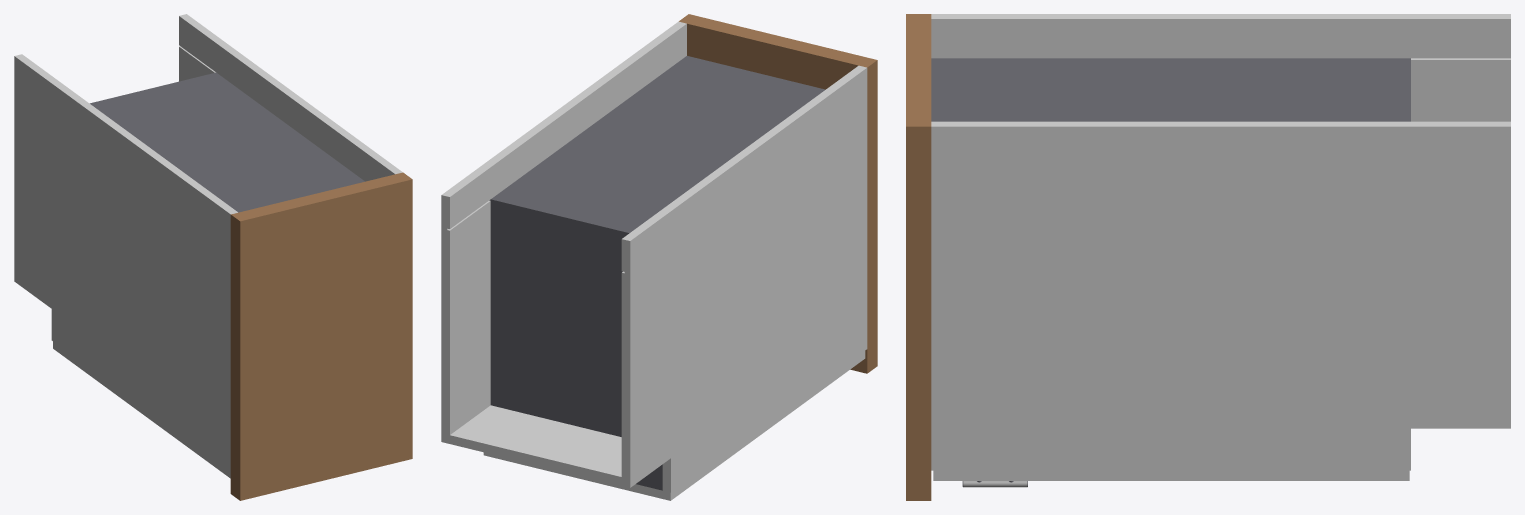
Rendered from Kitchen Cabinets_40CM Highline Cabinet (1).obj.
3 views of the same model, side by side, from view 1: azimuth 30°, elevation 25°; view 2: azimuth 150°, elevation 25°; view 3: azimuth 270°, elevation 25° (orthographic). The views are drawn at different scales.
Parts seen in each view (by area): view 1: RH_Panel_(4), Worktop_(4), BackPanel_(4), LH_Panel_(4), Door_(4); view 2: RH_Panel_(4), Bottom_Shelf_(4), BackPanel_(4), LH_Panel_(4), Worktop_(4), Plinth_(4), Door_(4); view 3: LH_Panel_(4), RH_Panel_(4), BackPanel_(4), Worktop_(4), Door_(4), Plinth_(4).
Boxes of the visible parts, x1,y1,x2,y2 form: RH_Panel_(4): (14, 54, 237, 470); Worktop_(4): (230, 172, 412, 500); BackPanel_(4): (90, 72, 364, 212); LH_Panel_(4): (179, 14, 402, 181); Door_(4): (53, 341, 230, 478); RH_Panel_(4): (621, 65, 867, 492); Bottom_Shelf_(4): (490, 201, 662, 490); BackPanel_(4): (489, 56, 825, 234); LH_Panel_(4): (441, 21, 686, 434); Worktop_(4): (679, 14, 877, 373); Plinth_(4): (441, 405, 670, 487); Door_(4): (483, 351, 865, 500); LH_Panel_(4): (931, 121, 1510, 470); RH_Panel_(4): (931, 14, 1510, 121); BackPanel_(4): (931, 58, 1410, 121); Worktop_(4): (906, 14, 931, 500); Door_(4): (933, 470, 1409, 480); Plinth_(4): (1411, 417, 1510, 428).
Bounding box in the file's own units: 0.4 × 0.62 × 0.908.
